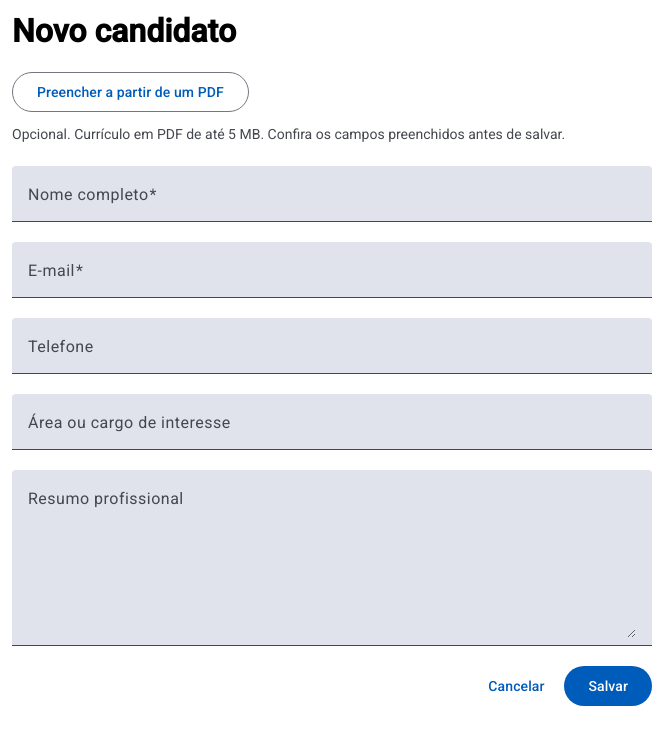
Test: CadastroCandidatoComponent › erros devolvidos pela API › com o servidor indisponível, explica que não conseguiu falar com ele
Type "Maria da Silva" into the field labelled "Nome completo". click: point(332, 202)
box: [28,190,636,214]
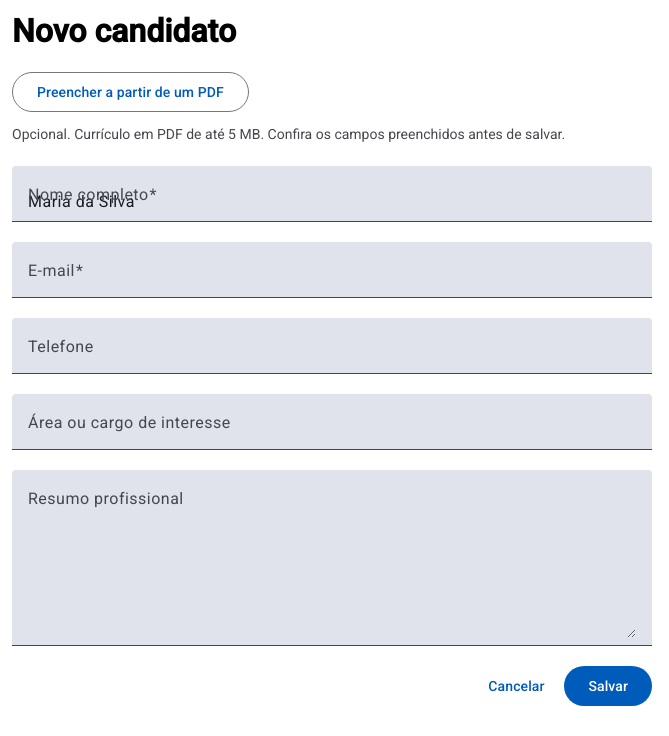
Type "maria.silva@exemplo.com" into the field labelled "E-mail". click: point(332, 278)
box: [28,266,636,290]
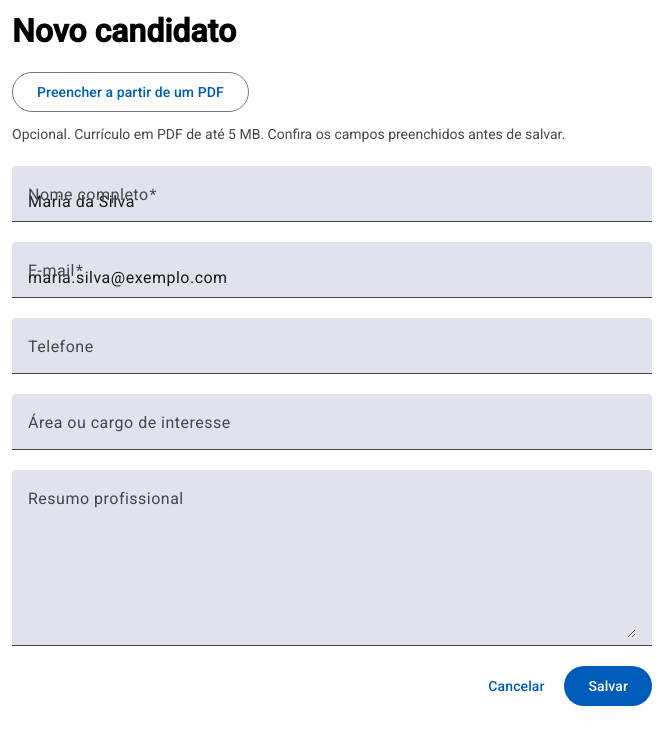
Submit the form
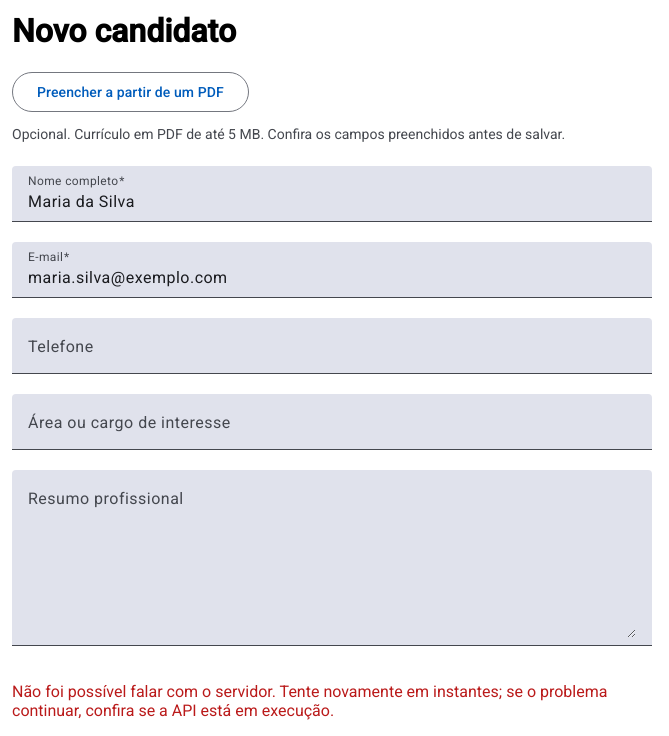
Result: the message shows "Não foi possível falar com o servidor" at [12,682,608,720]
